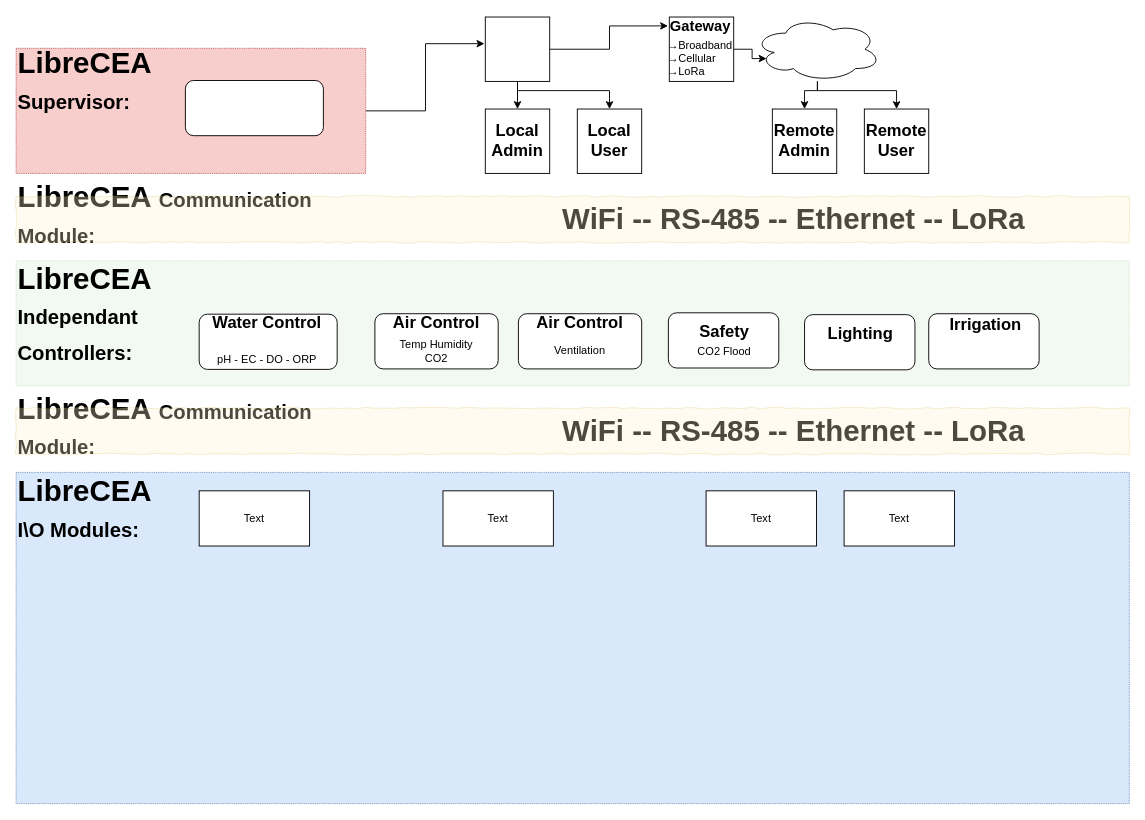
The diagram is 1145 pixels wide and 820 high, and some of its shapes have lost their labels. The shapes that lost their labels are listed below. From the top down, each one's centre as x and y in pixels, then its label:
At (517,48): "Router".
At (817,48): "Internet".
At (253,108): "Single Board Computer".
